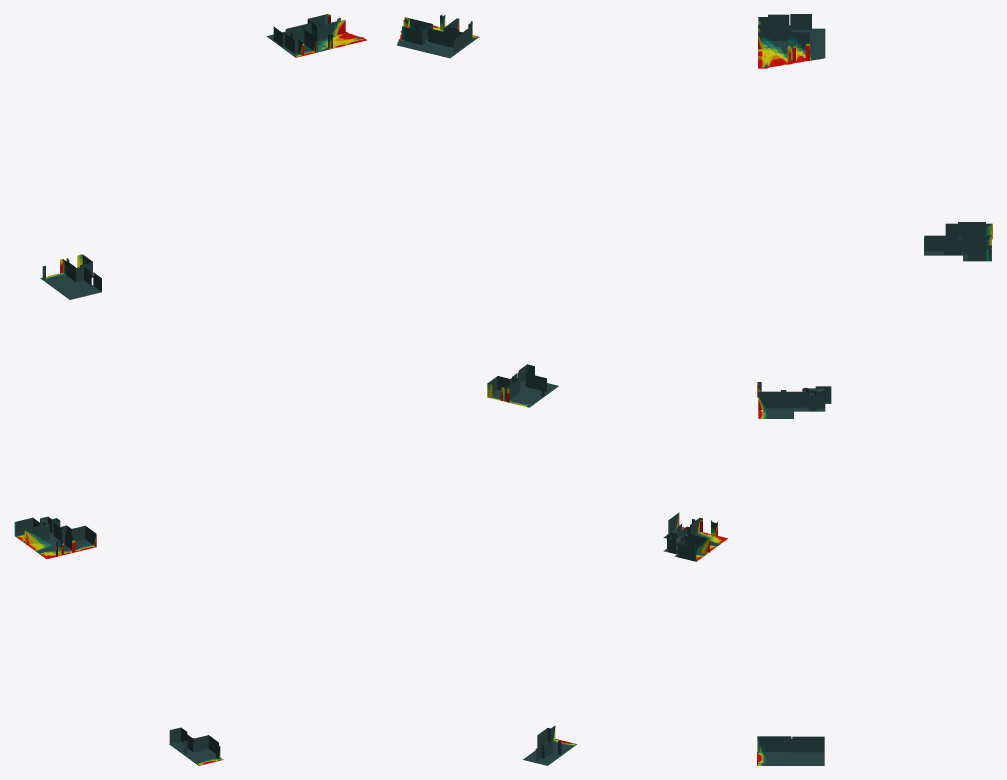
The model's file is summer.fbx.
The picture shows the model from 3 angles, left to right: view 1: azimuth 30°, elevation 25°; view 2: azimuth 150°, elevation 25°; view 3: azimuth 270°, elevation 25°; orthographic projection. The views are drawn at different scales.
Parts seen in each view (by area): view 1: SUMMER; view 2: SUMMER; view 3: SUMMER.
Boxes of the visible parts, box(x1,y1,x2,y2) form: SUMMER: box(14, 14, 366, 765); SUMMER: box(397, 14, 727, 765); SUMMER: box(757, 14, 992, 765).
Bounding box in the file's own units: 199 × 413 × 111.
